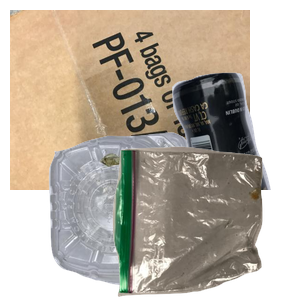cardboard: (10, 10, 250, 190)
glass: (106, 70, 300, 250)
plastic: (46, 130, 227, 300)
trash: (110, 144, 300, 300)
